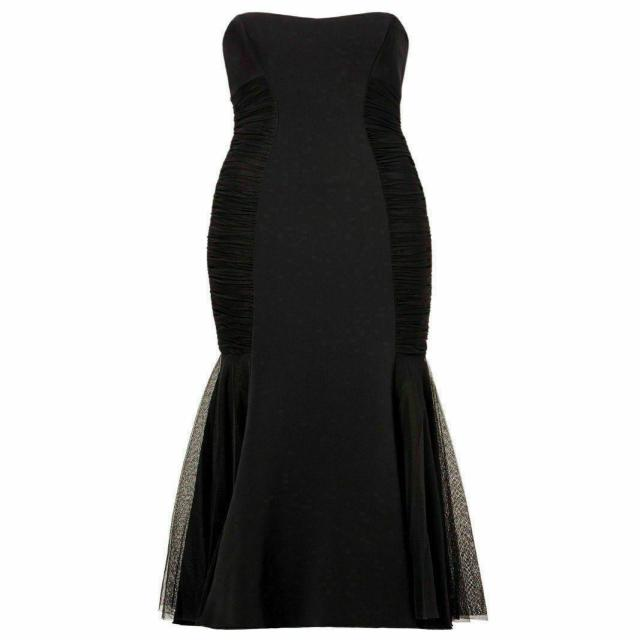Dress: (160, 7, 497, 633)
